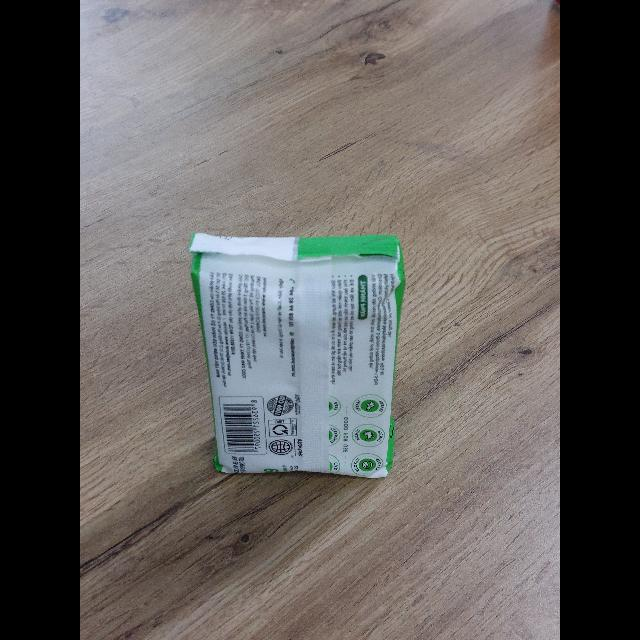khan_giay: (190, 233, 407, 481)
